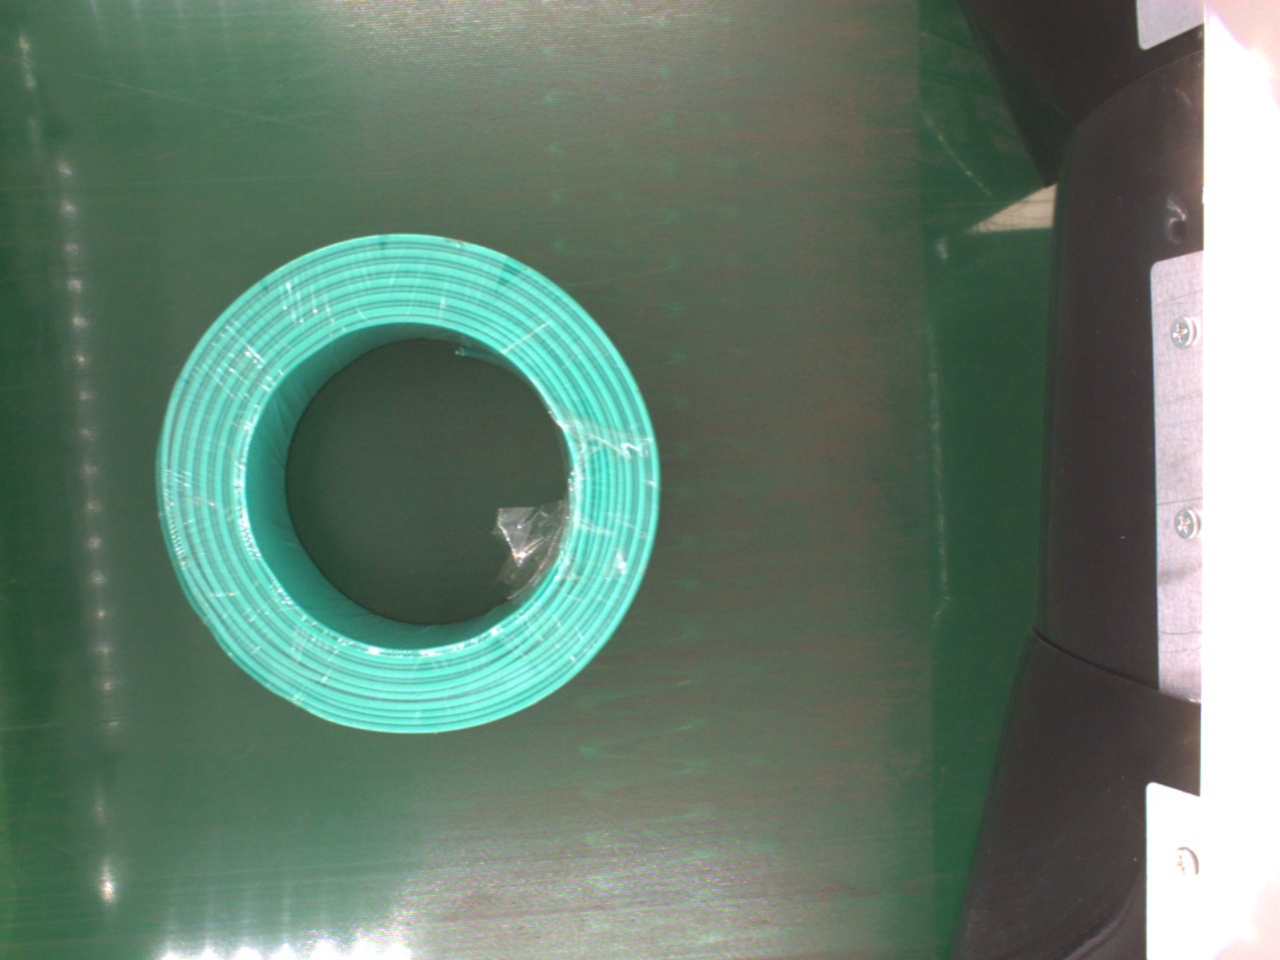green: (144, 228, 660, 739)
